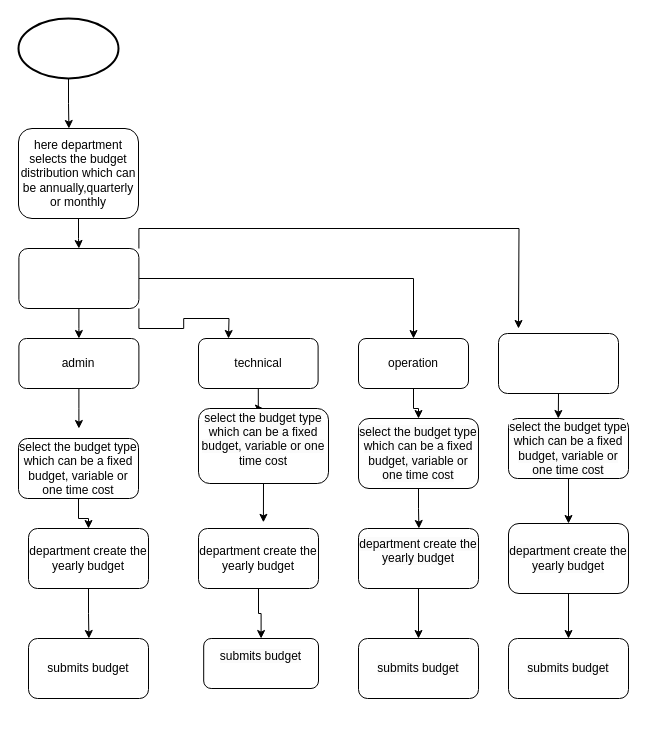
Image size: 646x736. Some labels were removed from this diagram. Each missing label, with the centre of its shape:
"choose department" goes at (78,278).
"sales and marketing" goes at (558,363).
"start" goes at (68,48).
